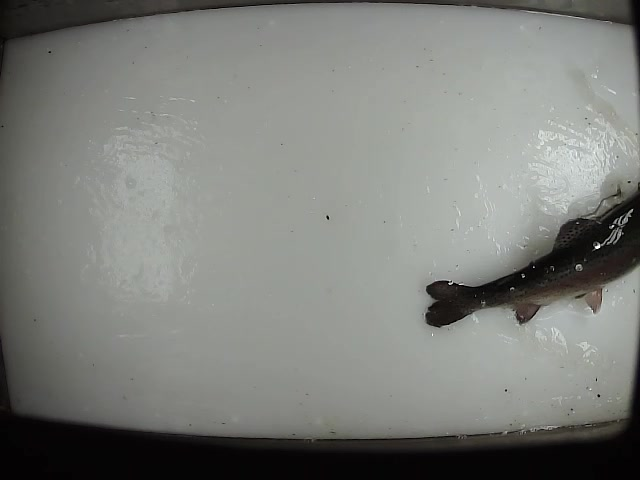fish: (420, 184, 640, 332)
